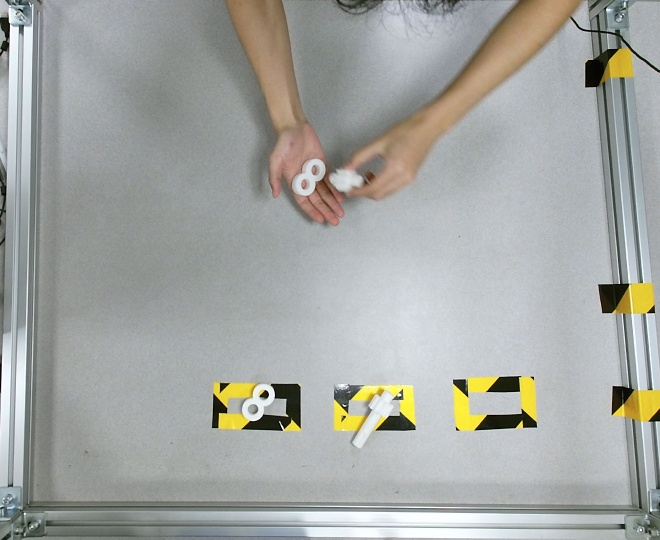stage_1: (292, 159, 325, 195)
